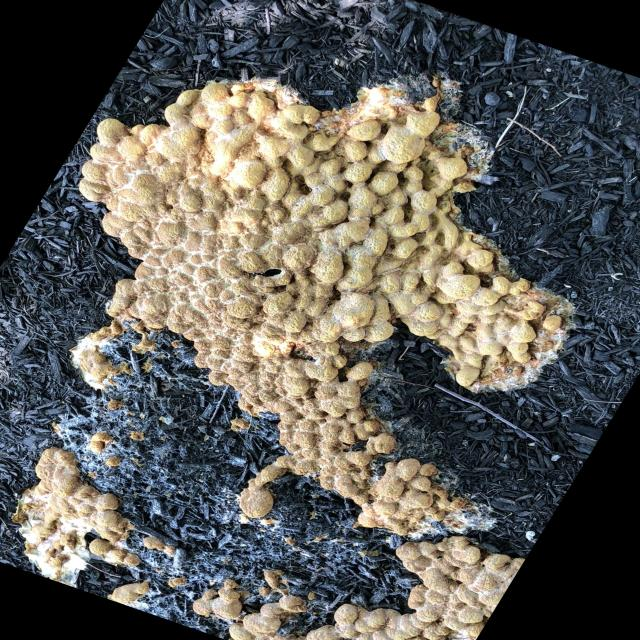Dog_vomit_slime_mold: (33, 50, 629, 640)
